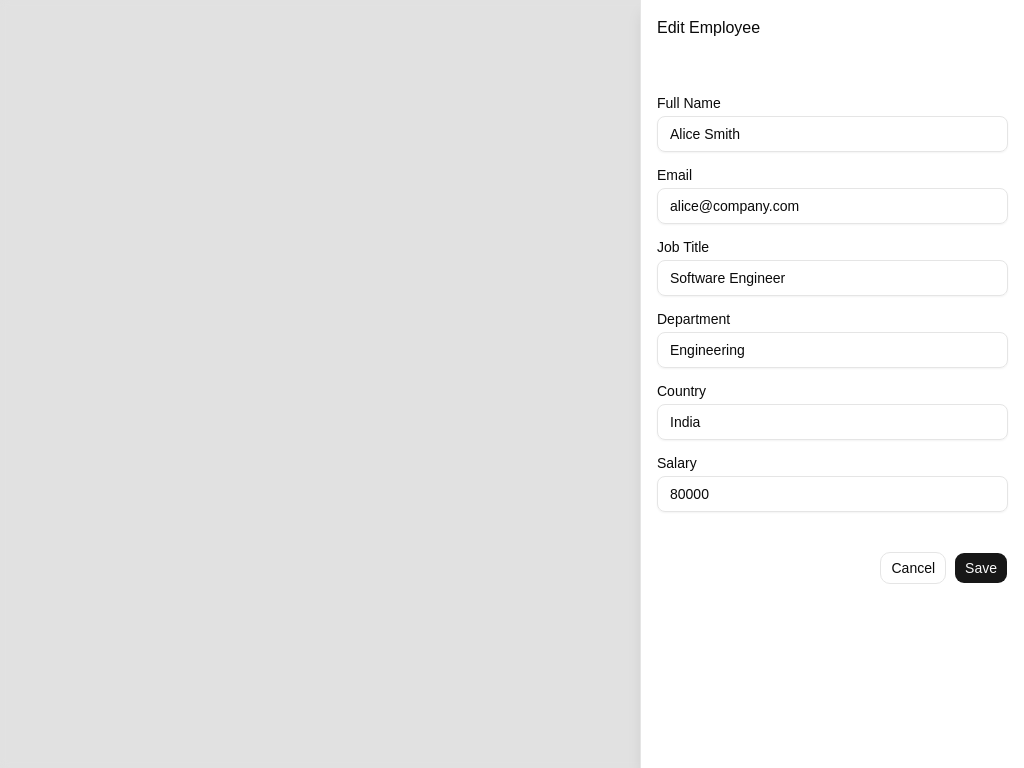
Test: EmployeeForm › still validates required fields in edit mode
This screenshot has width=1024, height=768.
Clear the field labelled "Full Name" at (832, 134), box [657,116,1008,152]
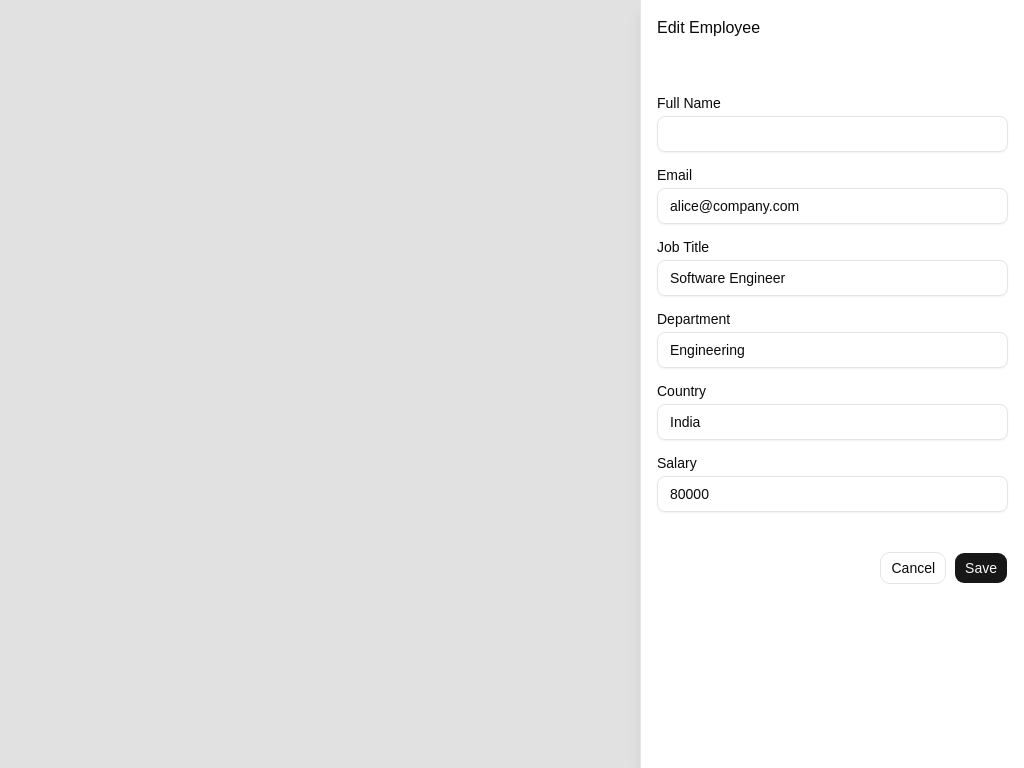
Click the button "Save" at (981, 568), box [954,552,1008,584]
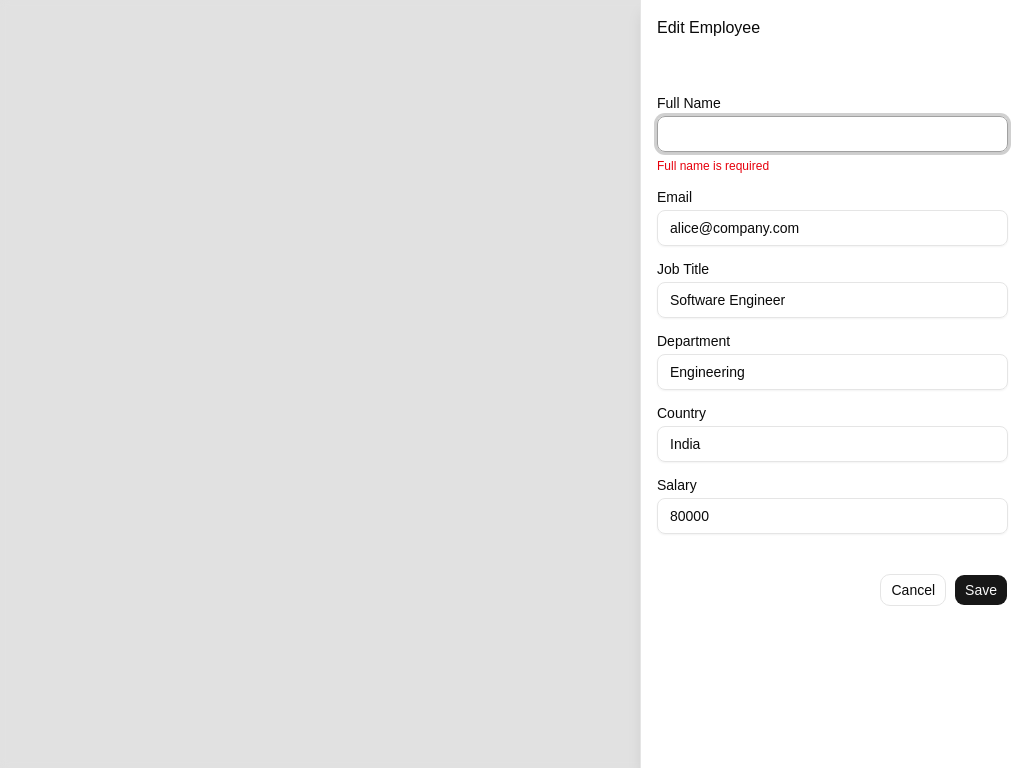
Now the text "Full name is required" is shown, box [657,159,769,173]
